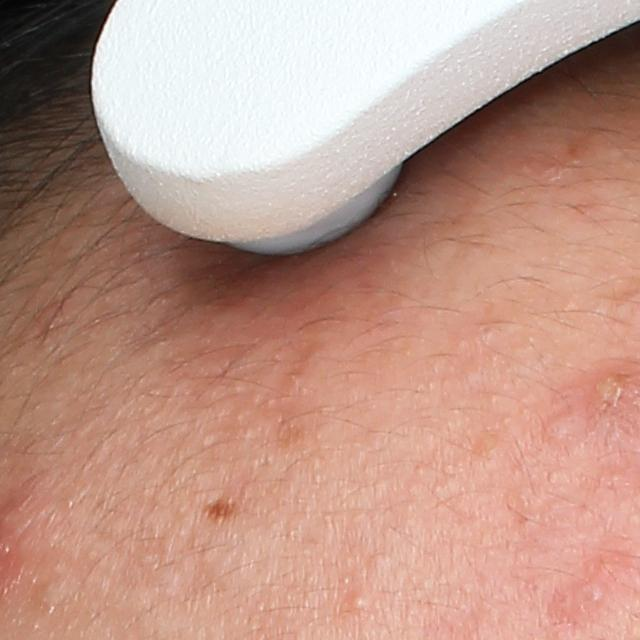comedo: (34, 576, 76, 615), (543, 414, 570, 442), (347, 595, 367, 611)
nevus: (203, 496, 238, 520)
